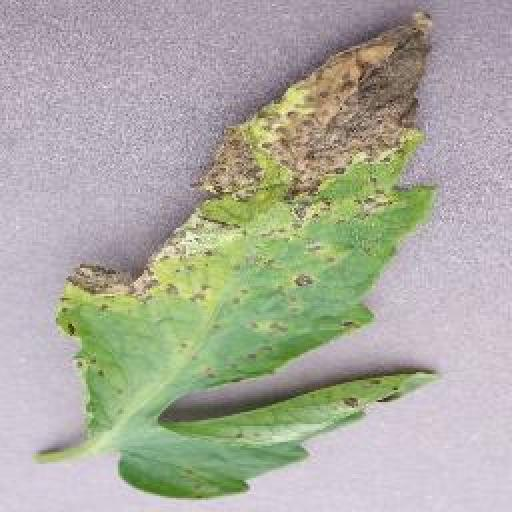Septoria: (58, 16, 443, 499)
